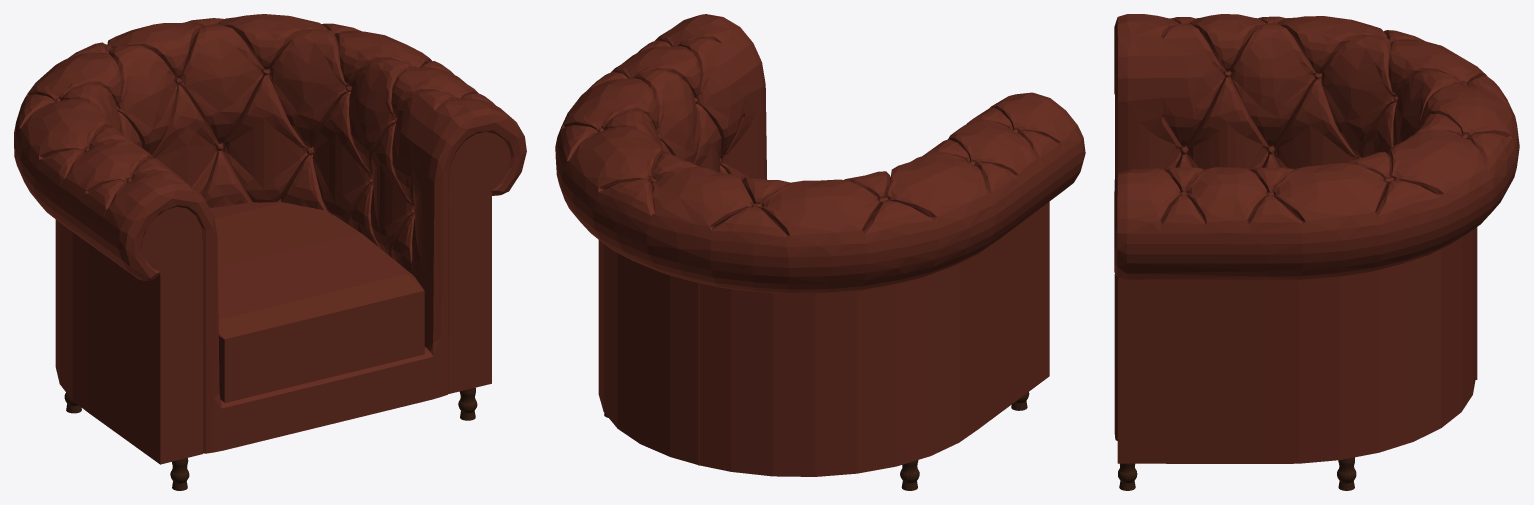
File: winchesterArmchair.obj
3 renders of one model, left to right at view 1: azimuth 30°, elevation 25°; view 2: azimuth 150°, elevation 25°; view 3: azimuth 270°, elevation 25°, orthographic. The views are drawn at different scales.
Parts seen in each view (by area): view 1: Circle, Circle.002_Circle.003, Cube_Cube.001; view 2: Circle, Circle.002_Circle.003; view 3: Circle, Circle.002_Circle.003, Circle.004_Circle.005, Circle.003_Circle.004.
Part boxes in pixels (x1,y1,x2,y2): Circle: (14, 14, 526, 453); Circle.002_Circle.003: (55, 132, 510, 464); Cube_Cube.001: (210, 194, 424, 402); Circle: (555, 14, 1085, 294); Circle.002_Circle.003: (598, 201, 1049, 476); Circle: (1114, 14, 1519, 440); Circle.002_Circle.003: (1117, 105, 1477, 463); Circle.004_Circle.005: (1337, 457, 1356, 490); Circle.003_Circle.004: (1118, 463, 1137, 490).
Bounding box in the file's own units: 112 × 80.43 × 93.42.
